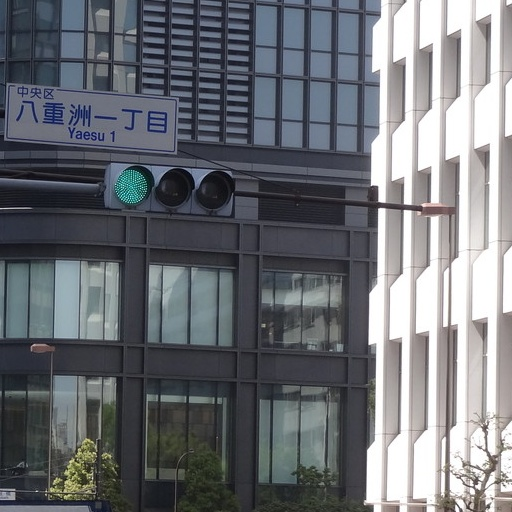Traffic_Signal_Blue: (100, 160, 240, 215)
